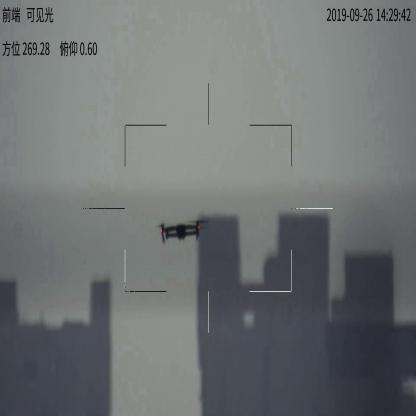uav: (156, 220, 206, 244)
